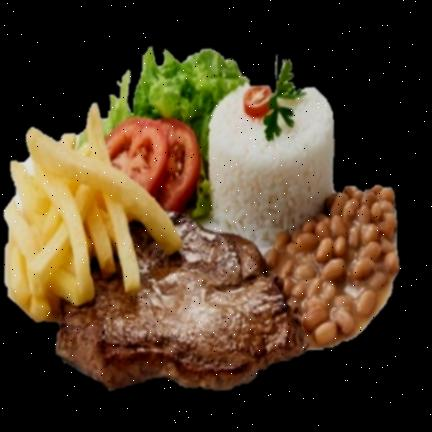beans: (264, 188, 398, 353)
meat: (53, 212, 309, 389)
potato: (8, 101, 183, 325)
rice: (209, 82, 335, 240)
salad: (103, 44, 248, 218)
tomato: (106, 118, 196, 212), (243, 85, 273, 113)
